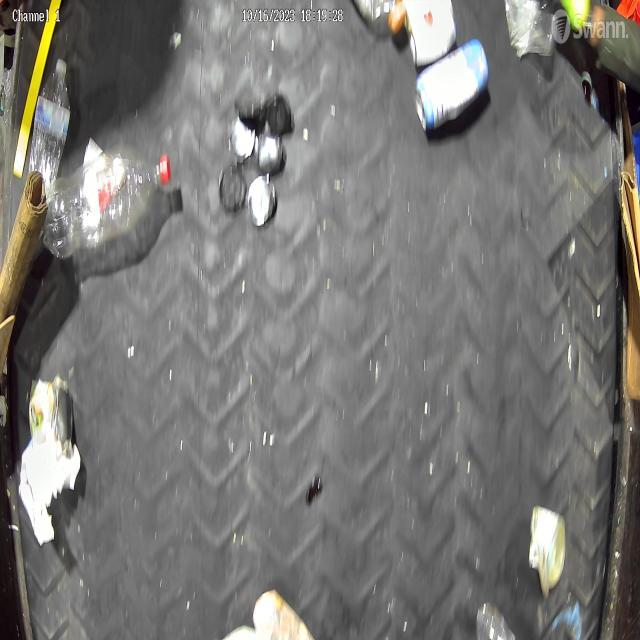can: (415, 40, 492, 134), (526, 504, 568, 600), (406, 0, 457, 69), (28, 376, 75, 446)
plastic_bottle: (46, 155, 172, 259), (28, 56, 72, 180)
